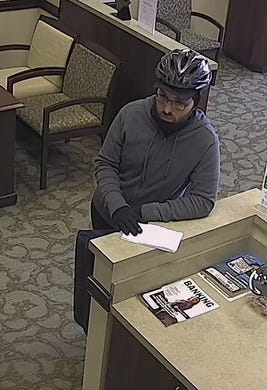helmet: (146, 33, 212, 87)
